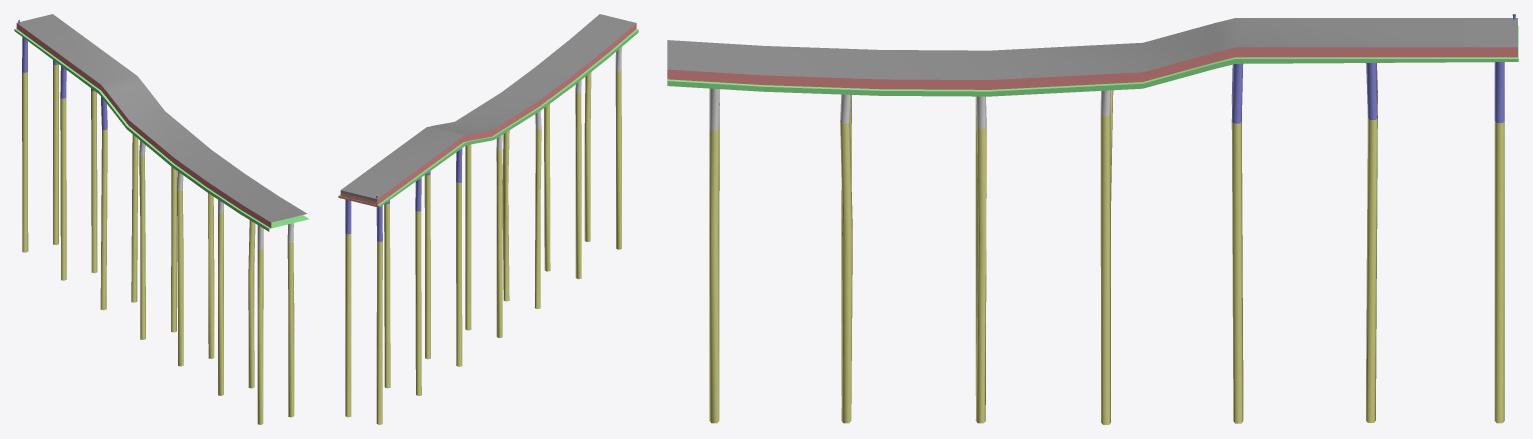
Rendered from PriMT_port_Bridge01.gltf.
The picture shows the model from 3 angles, left to right: view 1: azimuth 30°, elevation 25°; view 2: azimuth 150°, elevation 25°; view 3: azimuth 270°, elevation 25°; orthographic projection. The views are drawn at different scales.
Parts seen in each view (by area): view 1: PriMT_port_Bridge01; view 2: PriMT_port_Bridge01; view 3: PriMT_port_Bridge01.
Part boxes in pixels (x1,y1,x2,y2): PriMT_port_Bridge01: [14, 14, 309, 424]; PriMT_port_Bridge01: [338, 14, 638, 424]; PriMT_port_Bridge01: [667, 14, 1518, 424].
Size of the model in its own units: 1.78 by 9.68 by 19.49.
